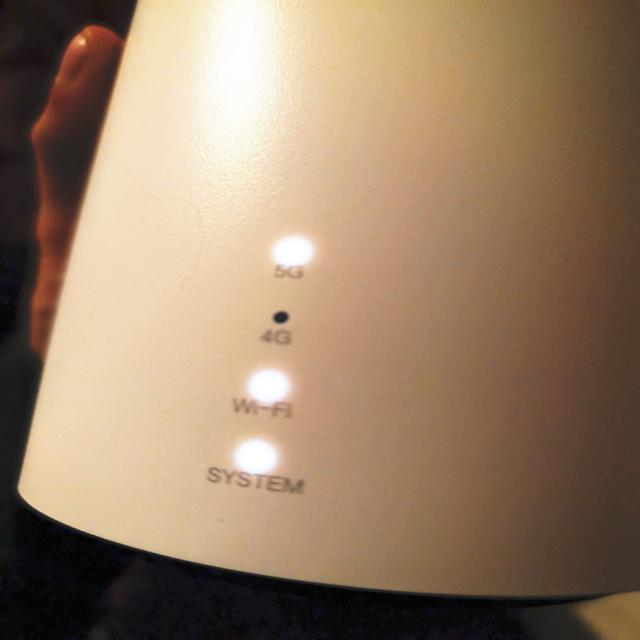modem: (16, 0, 640, 599)
off: (255, 301, 308, 339)
on: (260, 221, 328, 276), (229, 433, 288, 478), (244, 366, 295, 403)
